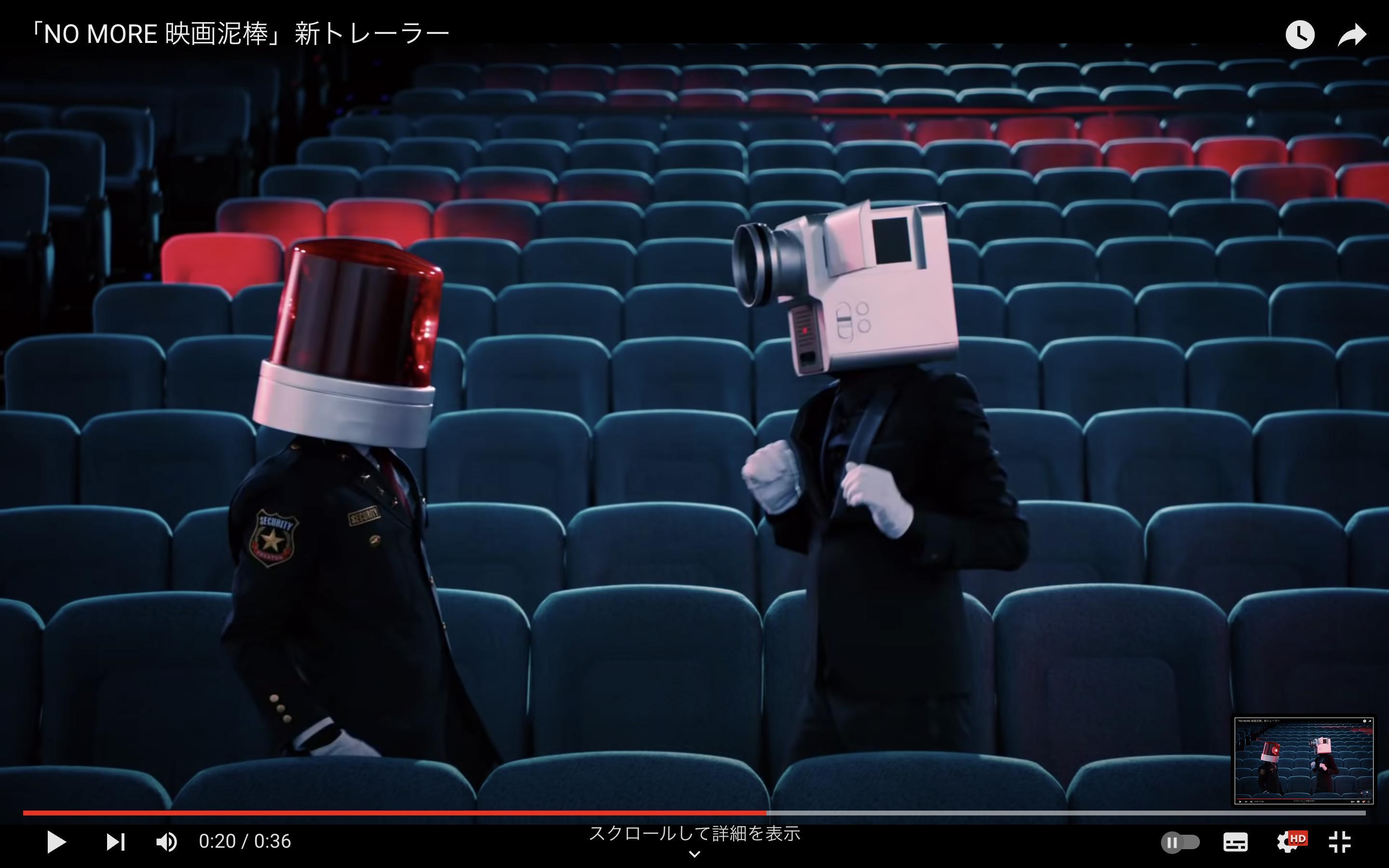no more kid: (731, 200, 966, 378)
